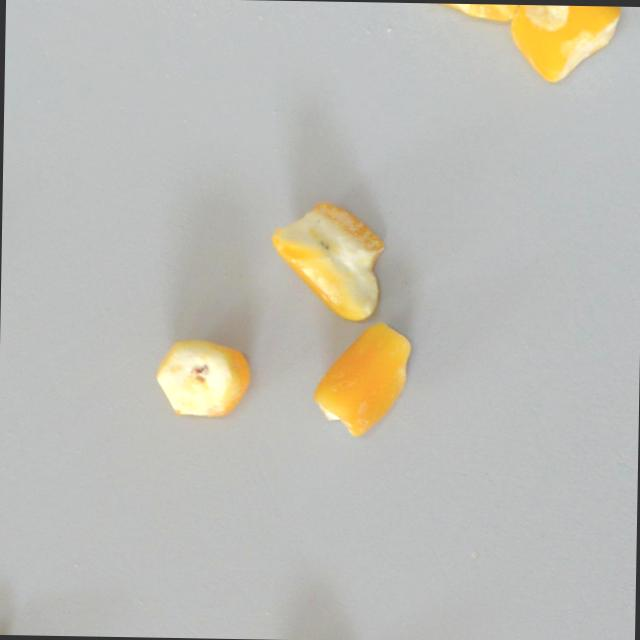dañado: (305, 317, 414, 438), (150, 336, 250, 419)
punto_negro: (266, 194, 390, 324), (510, 3, 625, 86), (392, 1, 528, 24)
